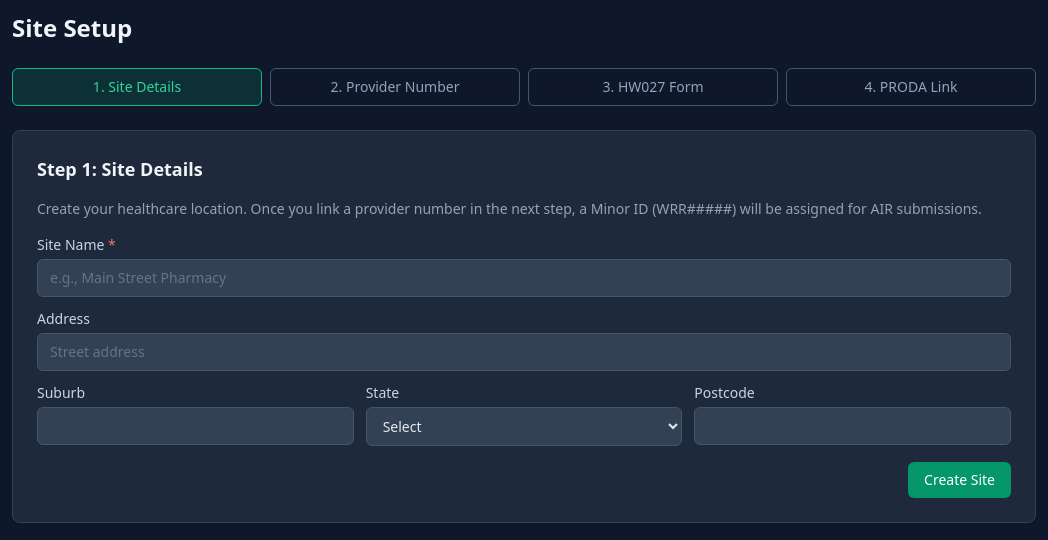
Test case: SetupWizard › navigates to hw027 step
This screenshot has width=1048, height=540.
Click the button "3. HW027 Form" at (653, 87), box [528,68,778,106]
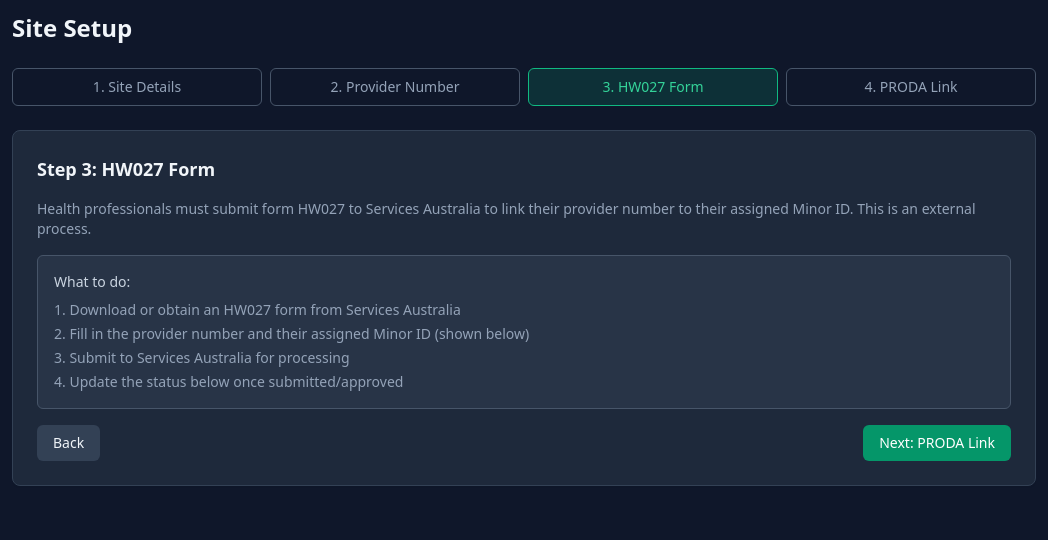
Expected: the heading "Step 3: HW027 Form" is shown, [37,157,215,181]
